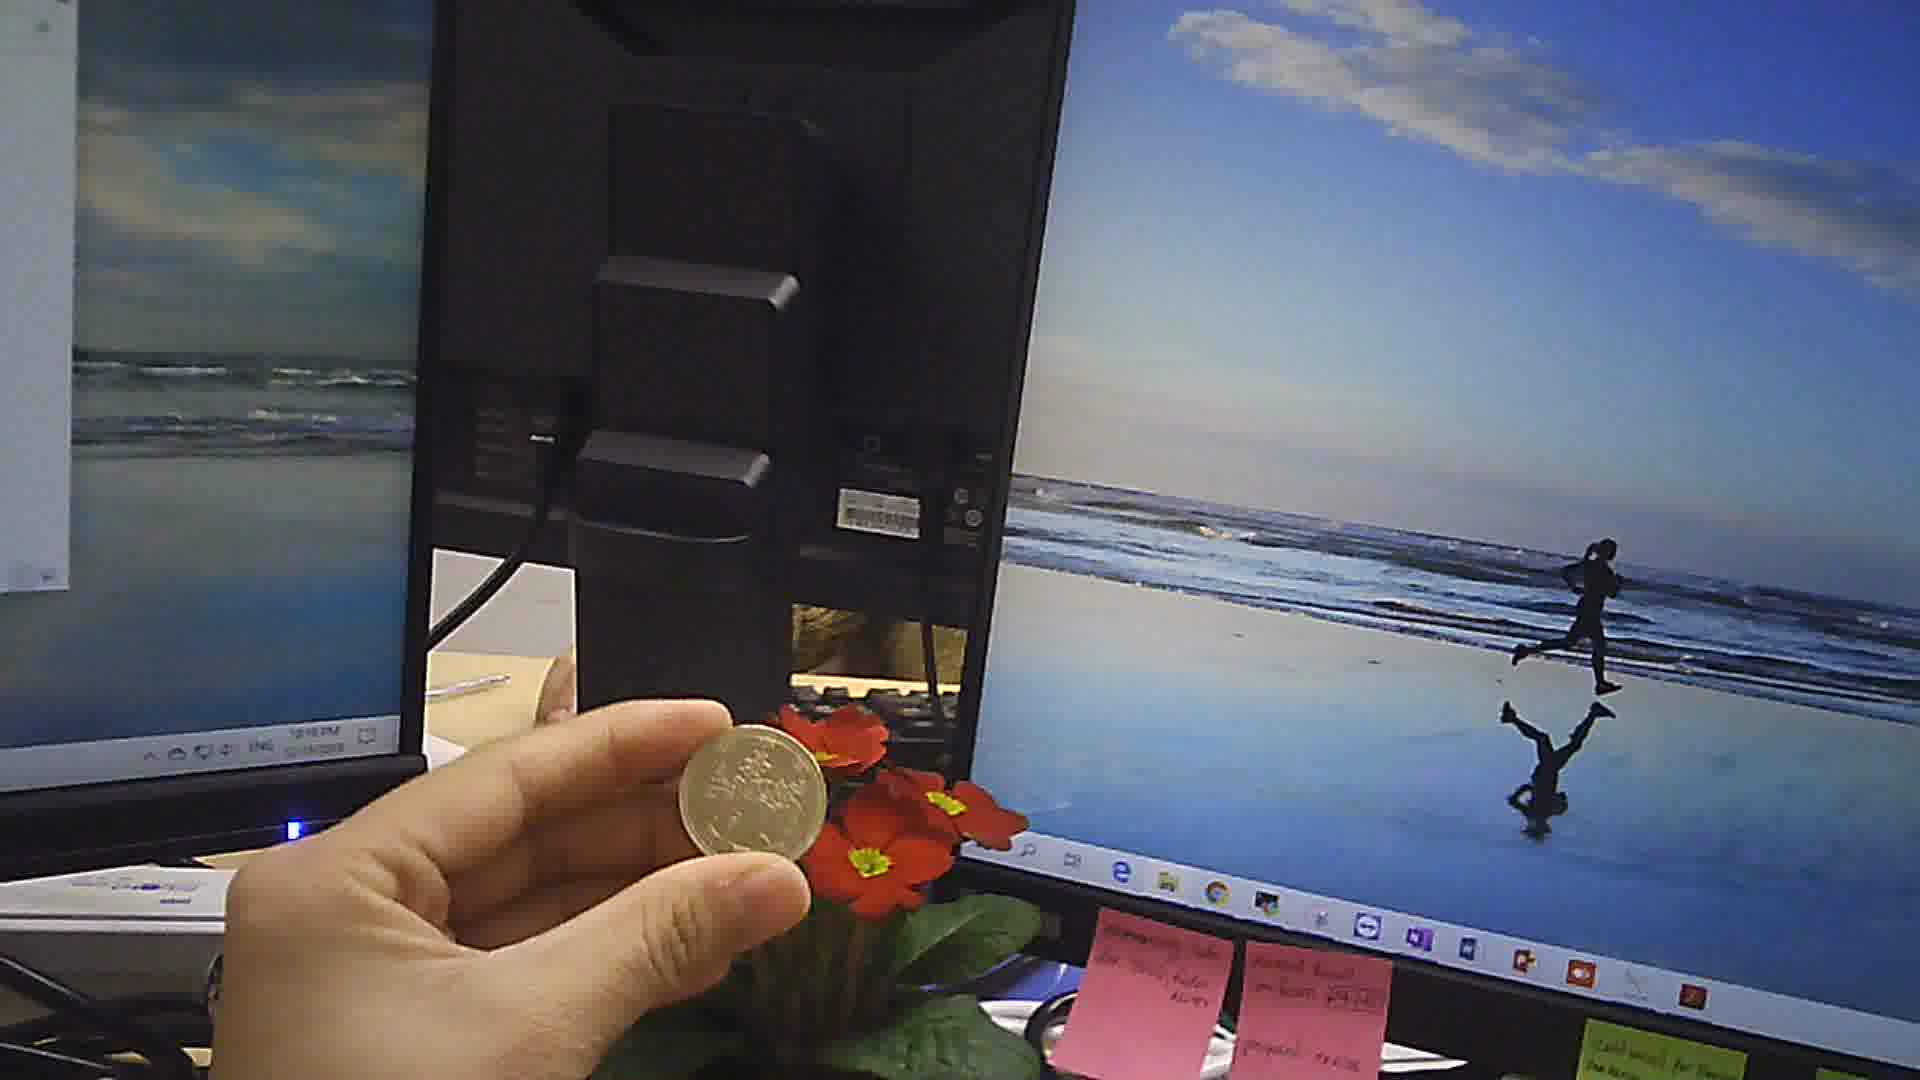500 Yen: (686, 727, 837, 865)
